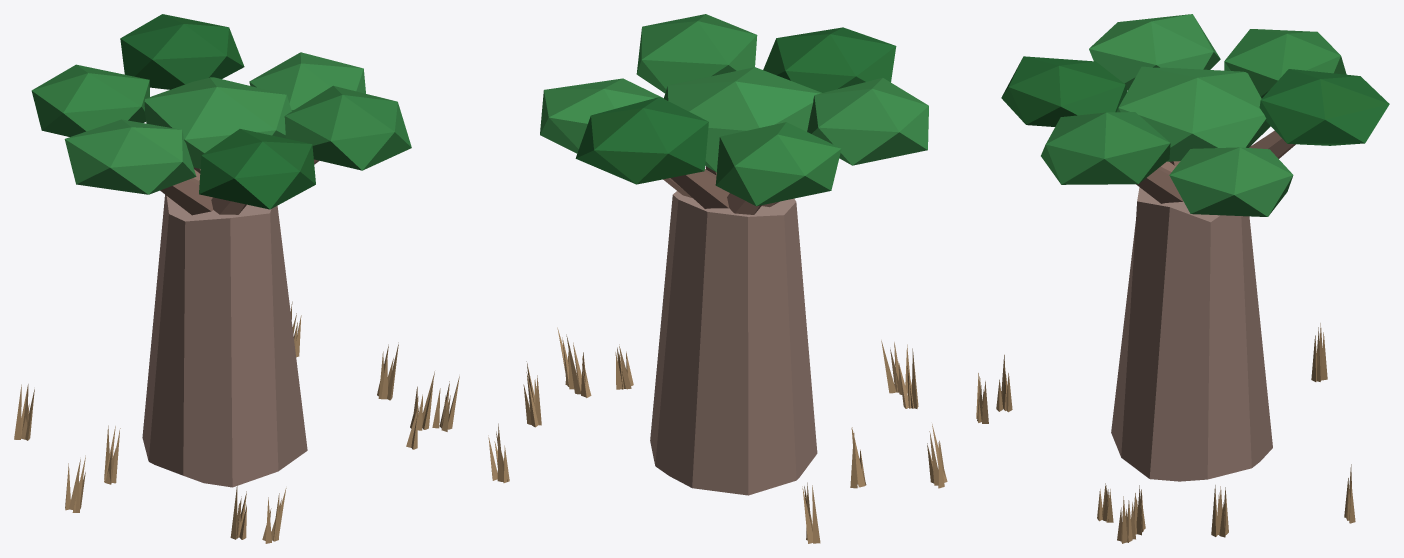
The model's file is lair-baobab.glb.
3 views of the same model, side by side, from view 1: azimuth 30°, elevation 25°; view 2: azimuth 150°, elevation 25°; view 3: azimuth 270°, elevation 25° (orthographic). The views are drawn at different scales.
Visible parts, largest first — view 1: lair-baobab; view 2: lair-baobab; view 3: lair-baobab.
Part boxes in pixels (x1,y1,x2,y2): lair-baobab: [14, 14, 459, 543]; lair-baobab: [488, 14, 947, 543]; lair-baobab: [976, 14, 1389, 543].
Size of the model in its own units: 5.4 by 5.06 by 4.99.
